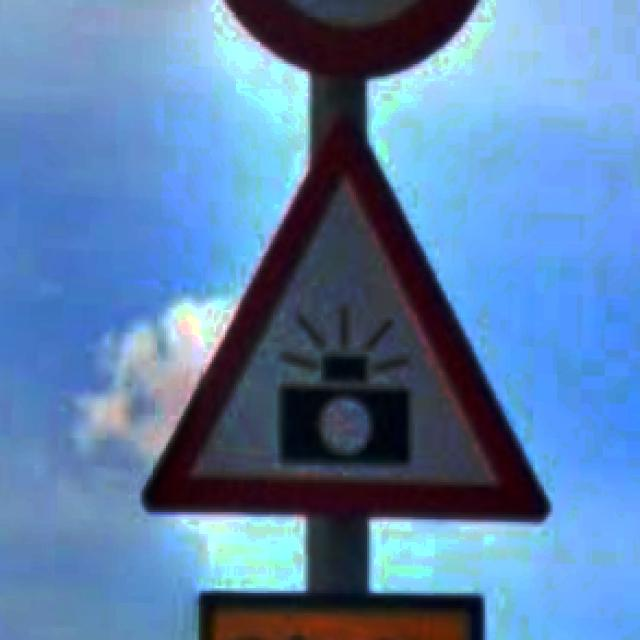speedcamera: (140, 108, 550, 524)
